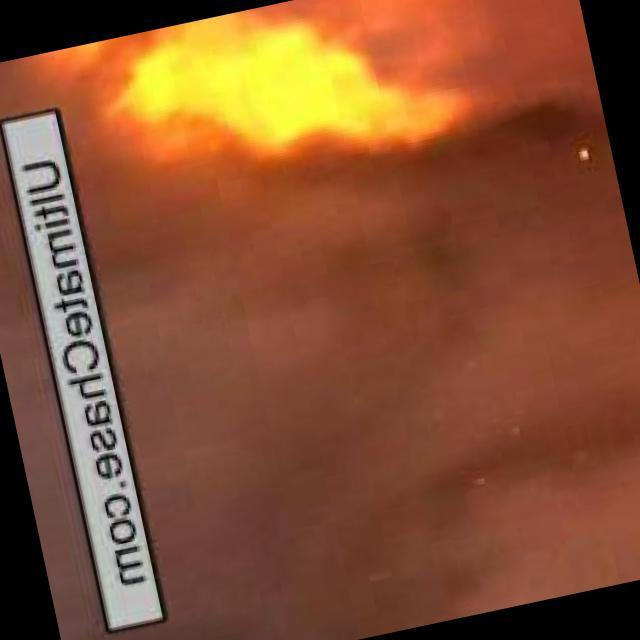Fire: (1, 1, 559, 239)
